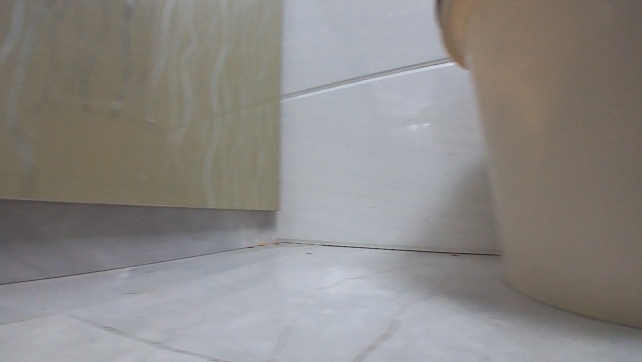cupboard1: (0, 0, 284, 290)
